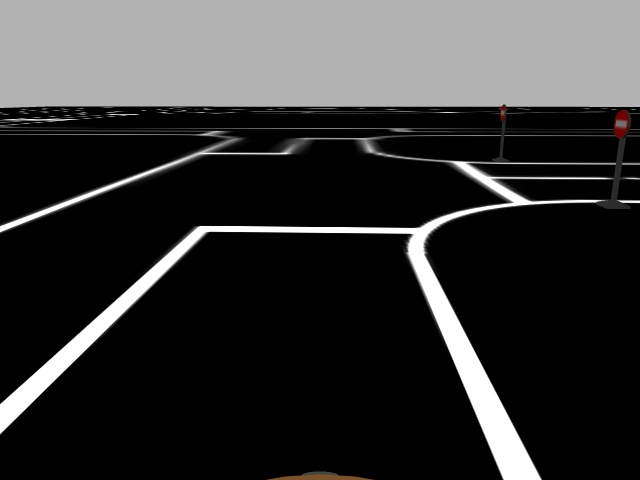prohibited: (613, 106, 630, 142)
